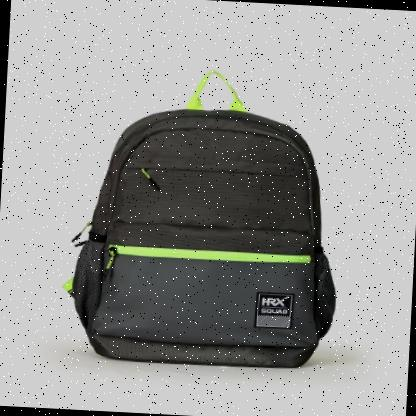bag: (47, 59, 356, 375)
